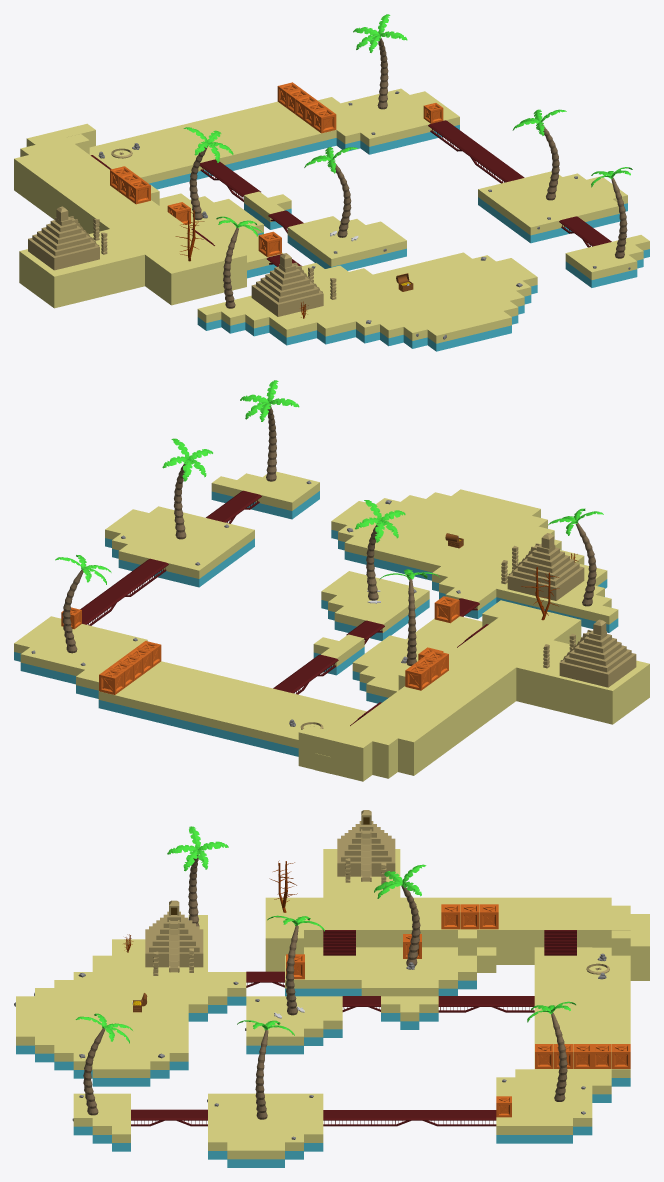
File: Map_Jemtan_Fixed.fbx
3 views of the same model, one above another, from view 1: azimuth 30°, elevation 25°; view 2: azimuth 150°, elevation 25°; view 3: azimuth 270°, elevation 25° (orthographic). The views are drawn at different scales.
Visible parts, largest first — view 1: Cube.652, lvl_1 1, lvl_2 1, lvl_1 4, lvl_1 6, temple 2, lvl_1 7, temple 1, jembatan 5, pohon 3, pohon 5, pohon 4 (+8 smaller); view 2: Cube.652, lvl_2 1, lvl_1 1, lvl_1 4, lvl_1 6, temple 2, lvl_1 7, temple 1, jembatan 5, pohon 1, pohon 2, pohon 4 (+8 smaller); view 3: Cube.652, lvl_1 1, lvl_2 1, lvl_1 4, lvl_1 6, temple 2, lvl_1 7, temple 1, jembatan 5, pohon 6, pohon 5, pohon 1 (+9 smaller).
Boxes of the visible parts, left/top/right/bottom form: Cube.652: left=89, top=88, right=459, bottom=270; lvl_1 1: left=197, top=252, right=537, bottom=351; lvl_2 1: left=14, top=123, right=246, bottom=292; lvl_1 4: left=14, top=175, right=282, bottom=308; lvl_1 6: left=478, top=171, right=627, bottom=243; temple 2: left=28, top=206, right=107, bottom=270; lvl_1 7: left=565, top=235, right=649, bottom=287; temple 1: left=251, top=253, right=323, bottom=316; jembatan 5: left=428, top=120, right=524, bottom=182; pohon 3: left=353, top=14, right=407, bottom=109; pohon 5: left=183, top=127, right=233, bottom=220; pohon 4: left=304, top=147, right=357, bottom=237; Cube.652: left=14, top=571, right=429, bottom=756; lvl_2 1: left=298, top=600, right=649, bottom=773; lvl_1 1: left=331, top=489, right=618, bottom=632; lvl_1 4: left=331, top=616, right=649, bottom=781; lvl_1 6: left=105, top=506, right=254, bottom=587; temple 2: left=543, top=619, right=636, bottom=687; lvl_1 7: left=211, top=471, right=319, bottom=519; temple 1: left=507, top=533, right=584, bottom=600; jembatan 5: left=80, top=558, right=168, bottom=624; pohon 1: left=240, top=380, right=299, bottom=481; pohon 2: left=162, top=438, right=212, bottom=539; pohon 4: left=355, top=500, right=405, bottom=600; Cube.652: left=246, top=947, right=630, bottom=1143; lvl_1 1: left=16, top=915, right=246, bottom=1086; lvl_2 1: left=265, top=849, right=649, bottom=963; lvl_1 4: left=265, top=947, right=611, bottom=996; lvl_1 6: left=208, top=1093, right=323, bottom=1167; temple 2: left=337, top=810, right=395, bottom=886; lvl_1 7: left=73, top=1093, right=130, bottom=1151; temple 1: left=145, top=900, right=203, bottom=967; jembatan 5: left=323, top=1110, right=496, bottom=1120; pohon 6: left=167, top=826, right=228, bottom=926; pohon 5: left=374, top=864, right=426, bottom=965; pohon 1: left=75, top=1013, right=132, bottom=1115.
Size of what is drawn, in the model's own units: 7000 by 1317 by 6619.
